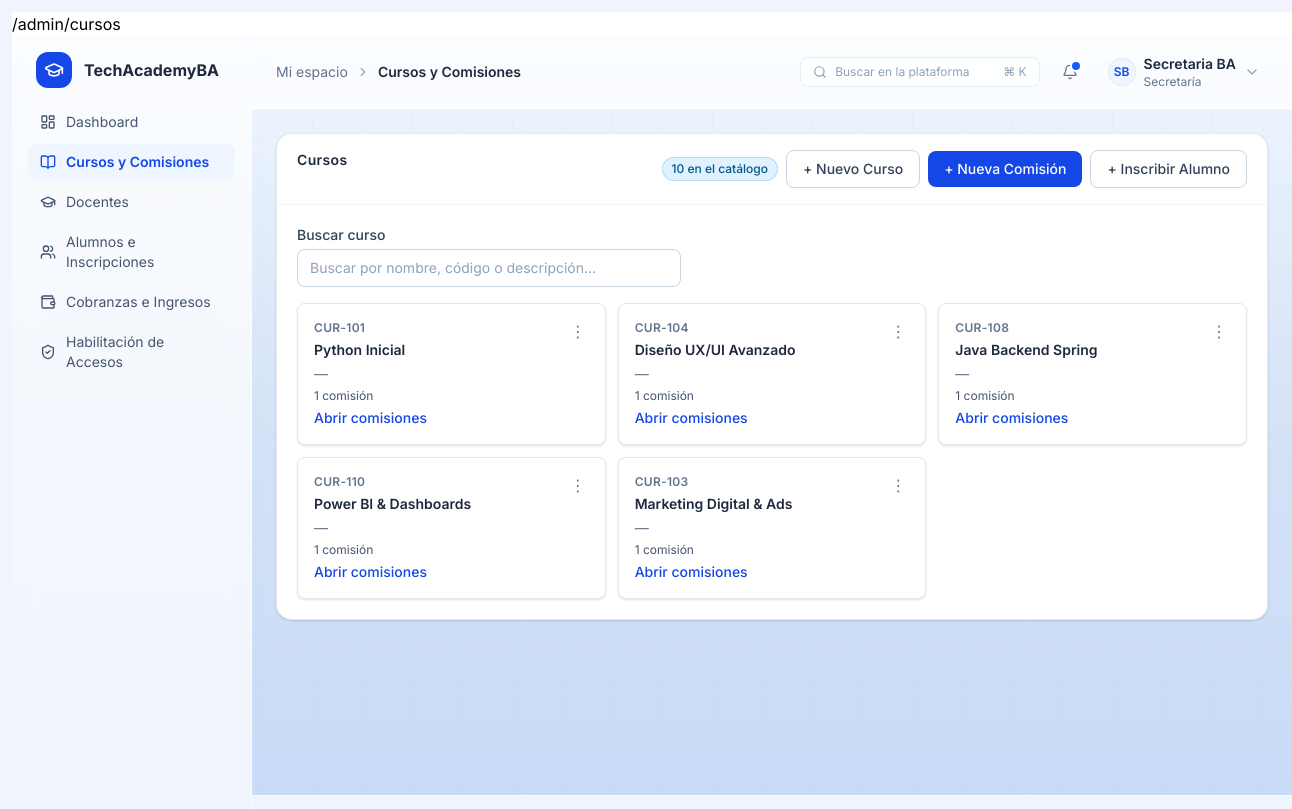
Test: vista de cursos › muestra mensaje cuando no hay cursos coincidentes
Expected: the heading "Cursos" is shown, left=297, top=150, right=348, bottom=170
Type "zzzz" into the field labelled "Buscar curso".
click(489, 268); type("zzzz")  # box left=297, top=249, right=681, bottom=287
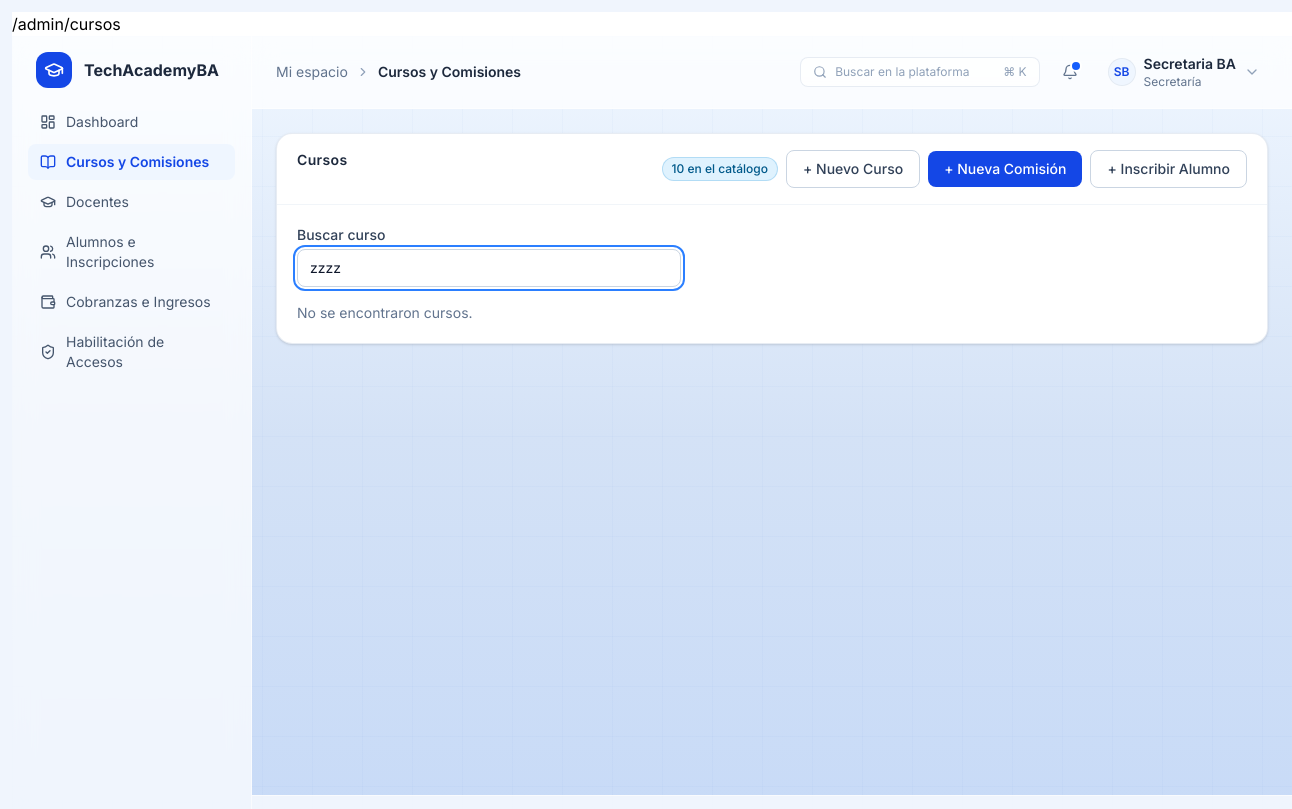
Expected: the text "No se encontraron cursos." is shown, left=297, top=304, right=473, bottom=321
